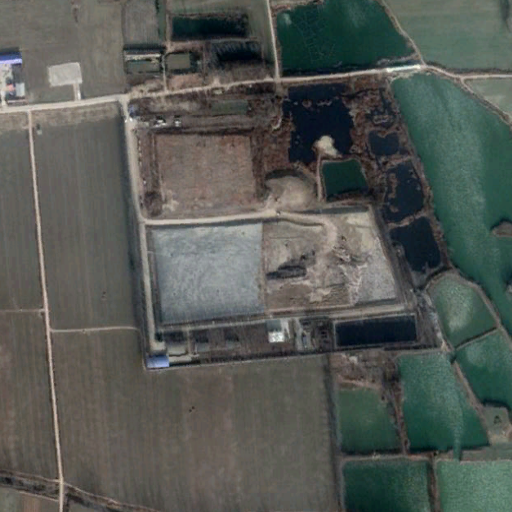lf: (151, 212, 408, 333)
